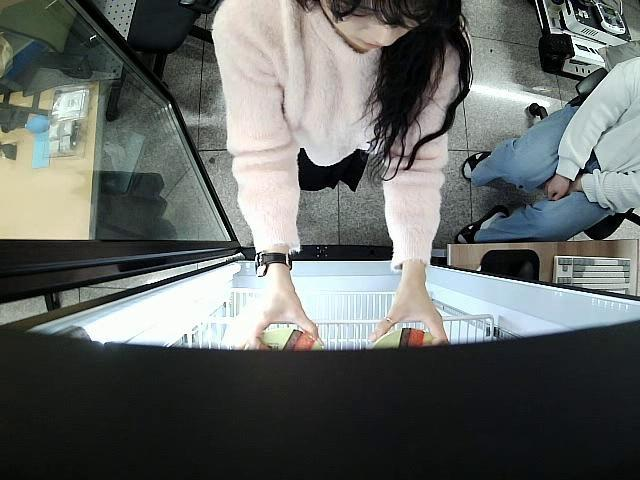03_chapagetti_L: (250, 326, 327, 352), (364, 330, 444, 353)
